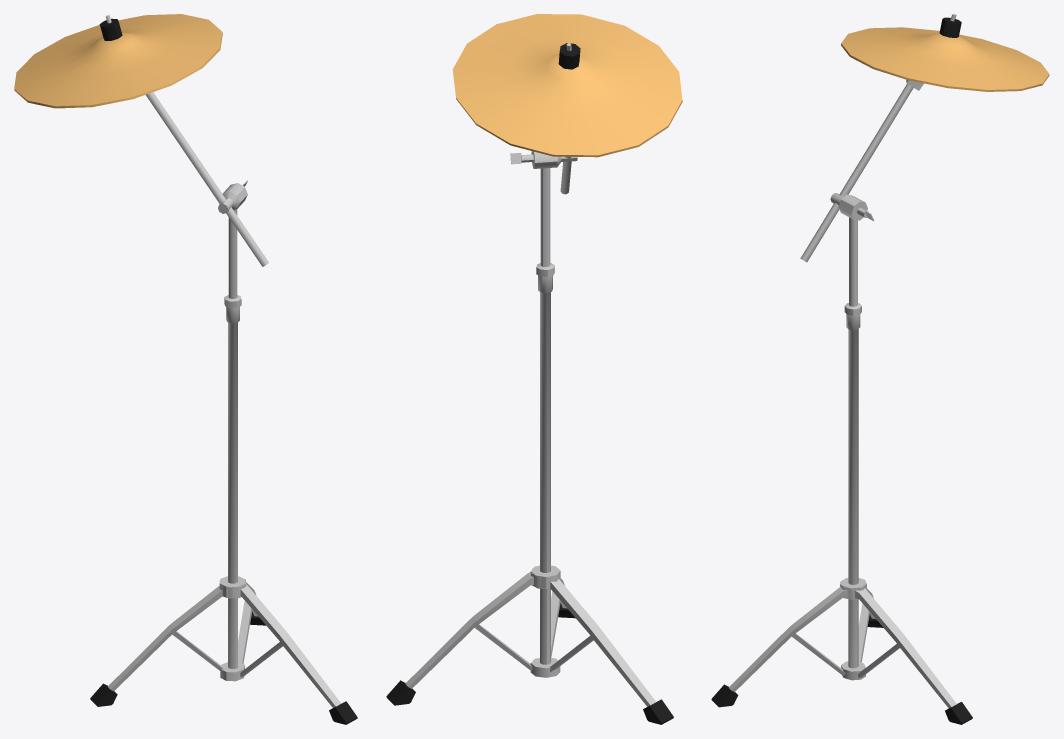
Rendered from SM_Cymball_4k.fbx.
3 views of the same model, side by side, from view 1: azimuth 30°, elevation 25°; view 2: azimuth 150°, elevation 25°; view 3: azimuth 270°, elevation 25° (orthographic). The views are drawn at different scales.
Parts seen in each view (by area): view 1: Cymball_4k; view 2: Cymball_4k; view 3: Cymball_4k.
Boxes of the visible parts, x1=… form: Cymball_4k: x1=14, y1=14, x2=357, y2=724; Cymball_4k: x1=386, y1=14, x2=682, y2=724; Cymball_4k: x1=711, y1=14, x2=1049, y2=724.
Size of the model in its own units: 48.95 by 120 by 58.15.
Materials: 1 (1 with a texture image).
